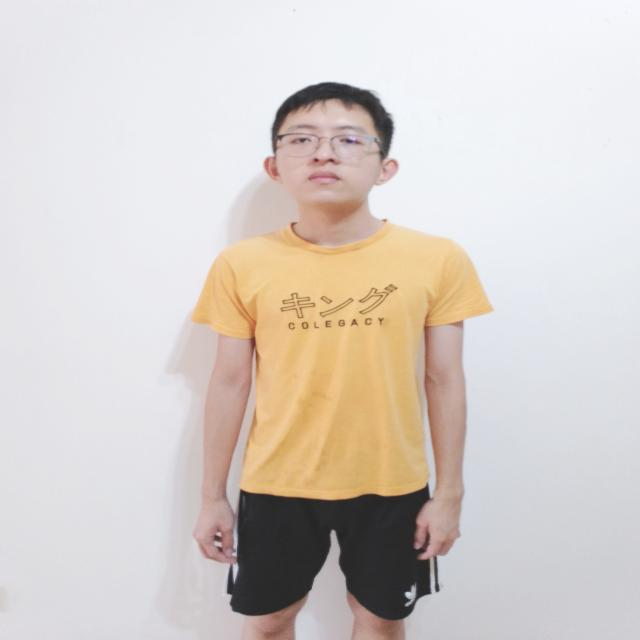person_without_labcoat: (193, 82, 491, 640)
